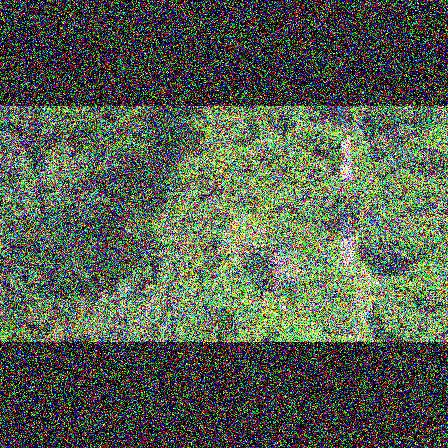Dead: (258, 247, 304, 300)
